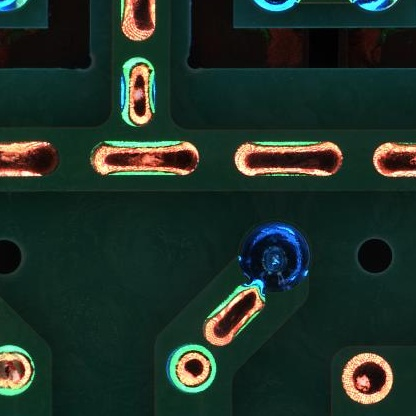spot: (239, 223, 310, 289), (343, 352, 392, 403), (167, 347, 216, 394), (1, 344, 35, 396)
